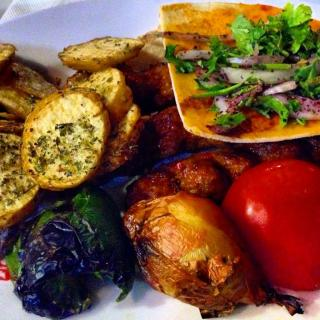Potato: (0, 34, 143, 228)
Tomato: (222, 160, 320, 292)
